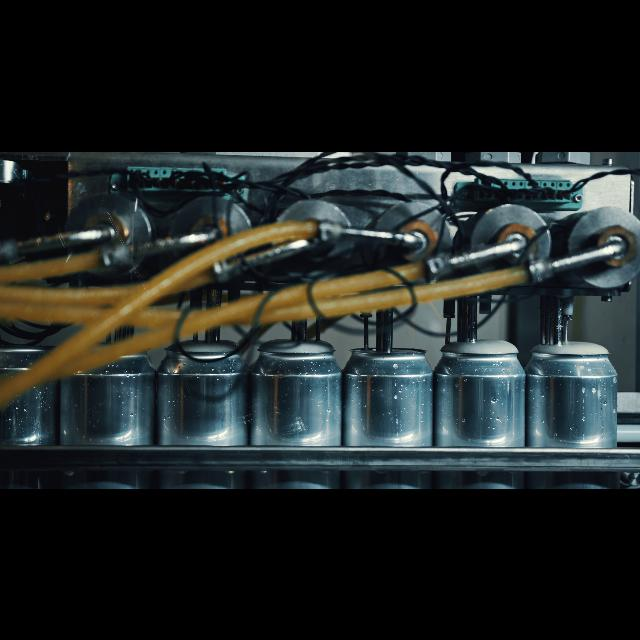empty: (345, 332, 429, 488), (64, 342, 150, 488), (2, 339, 54, 488)
full: (436, 328, 524, 488), (530, 332, 618, 488), (255, 328, 338, 488), (160, 339, 246, 488)
